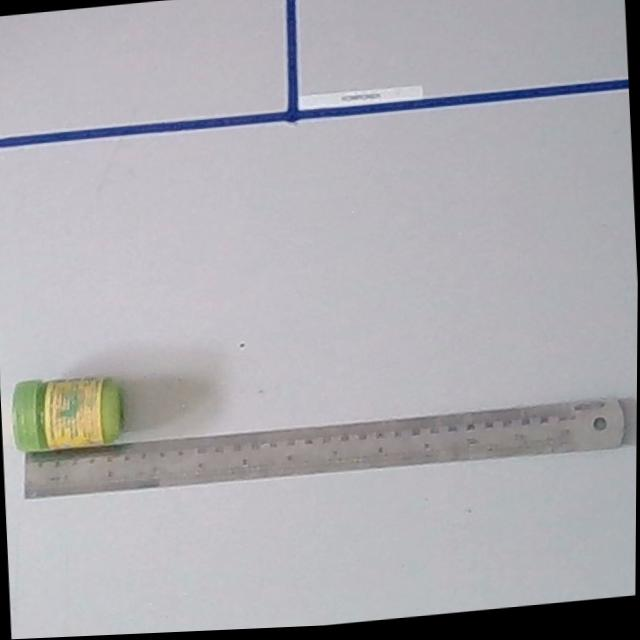ruler: (21, 400, 636, 501)
small: (10, 369, 128, 456)
